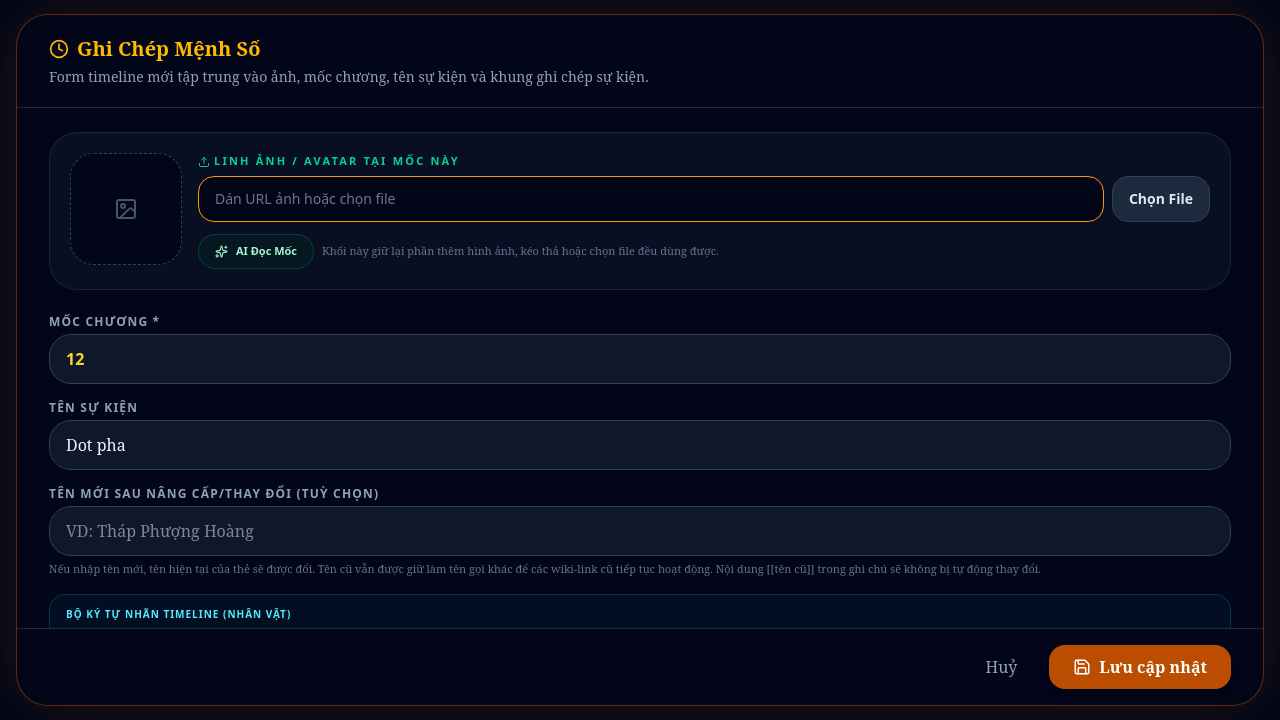
it: ModalMilestone save does not rewrap the event body › does not wrap the chapter or title when those strings match an entity
The width and height of the screenshot is (1280, 720).
Replace the text in the field with placeholder "VD: Kết đan thành công" with "Triệu Hồi" at point(640, 445), box [49,420,1231,470]
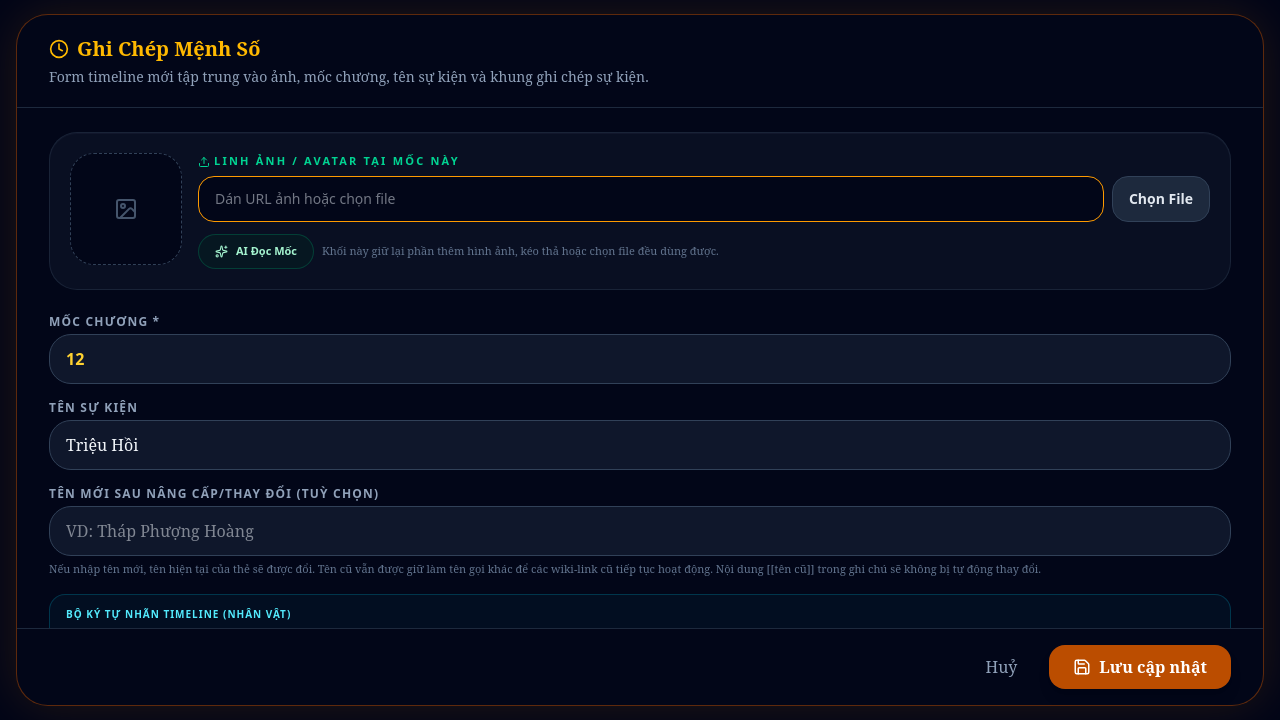
Type "Linh Hồn Hỏa Diễm" into the field with placeholder "VD: Tháp Phượng Hoàng" at point(640, 531), box [49,506,1231,556]
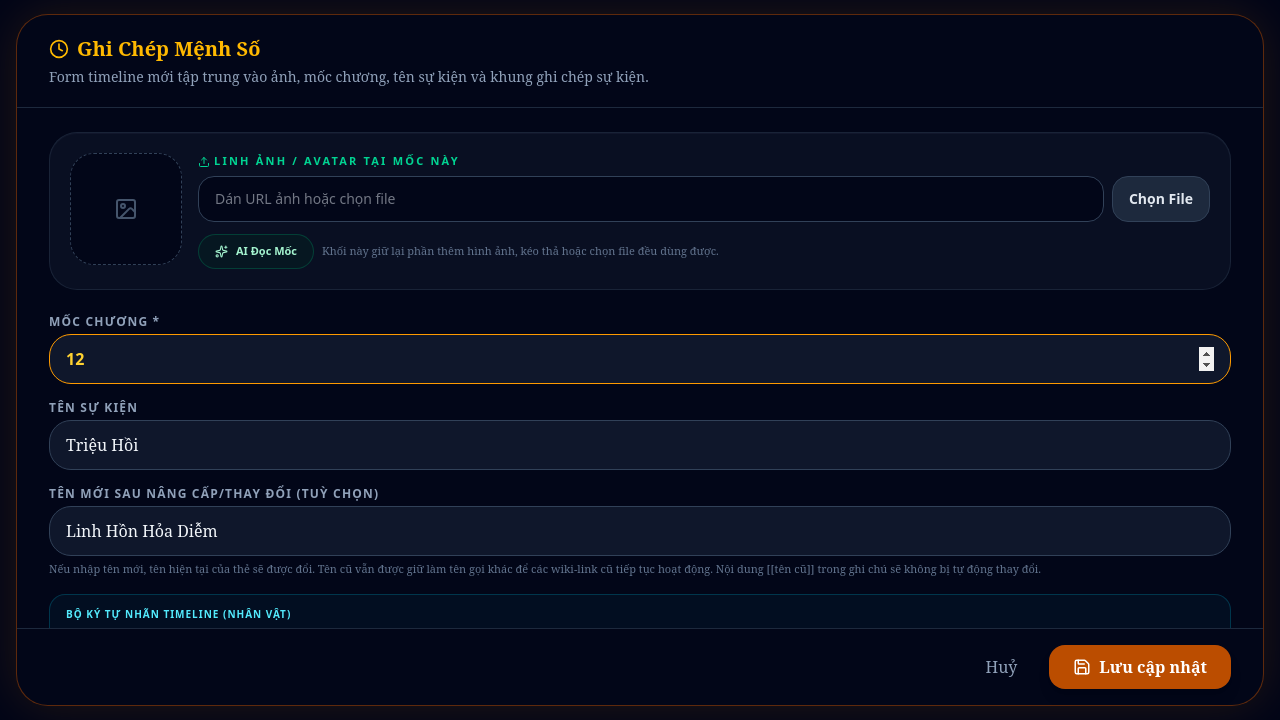
Expected: the number field holds "12", [49,334,1231,384]
Click the button "Lưu cập nhật" at point(1140, 667), box [1049,645,1231,689]
(page scrolled)
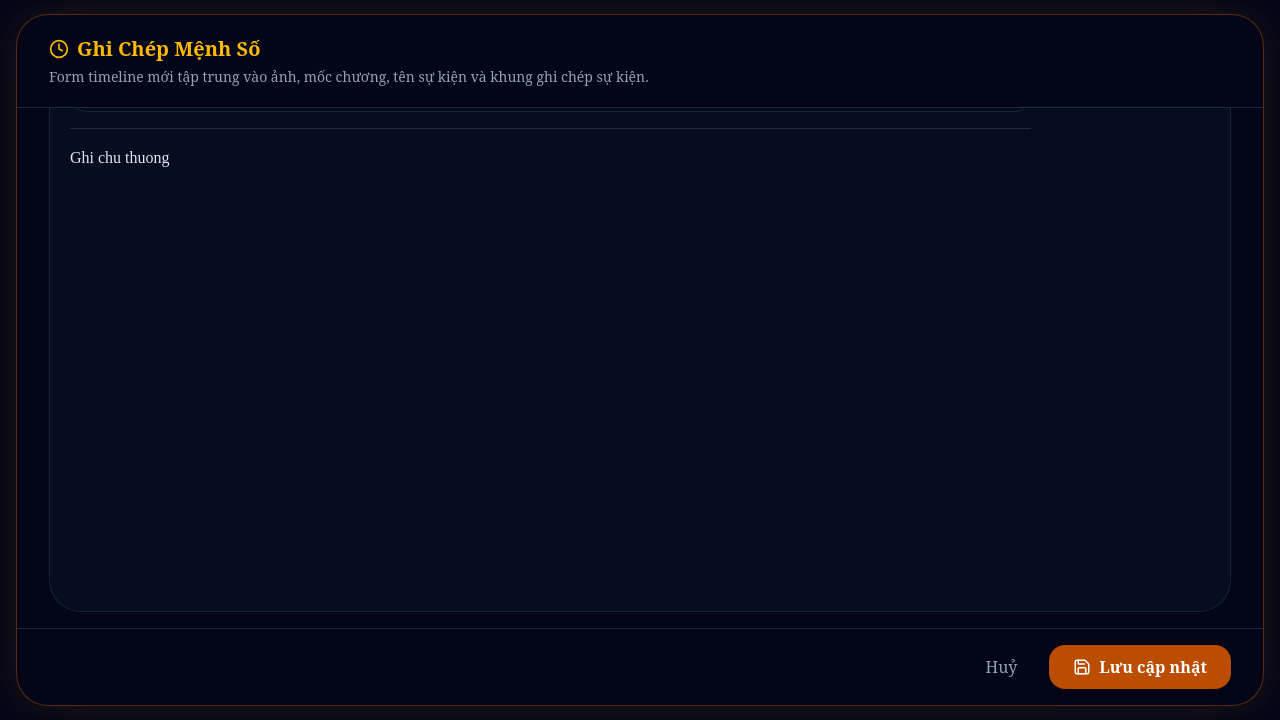
Now the text "Ghi chu thuong" is shown, box [70,149,170,166]
